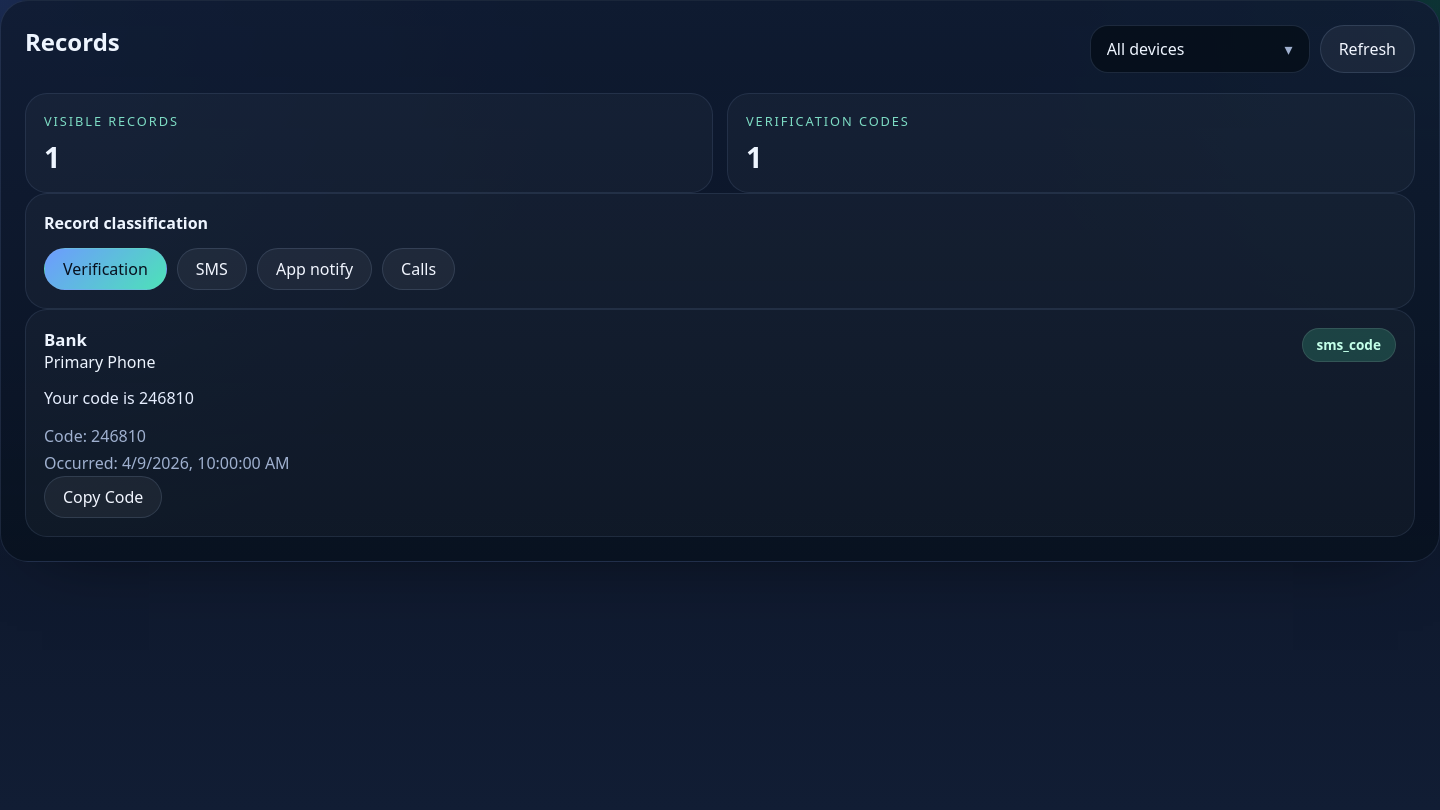
Scenario: RecordsPage › copies extracted codes and gives inline feedback
The width and height of the screenshot is (1440, 810).
Click the button "Copy Code": (103, 497) 44,476 -> 162,518
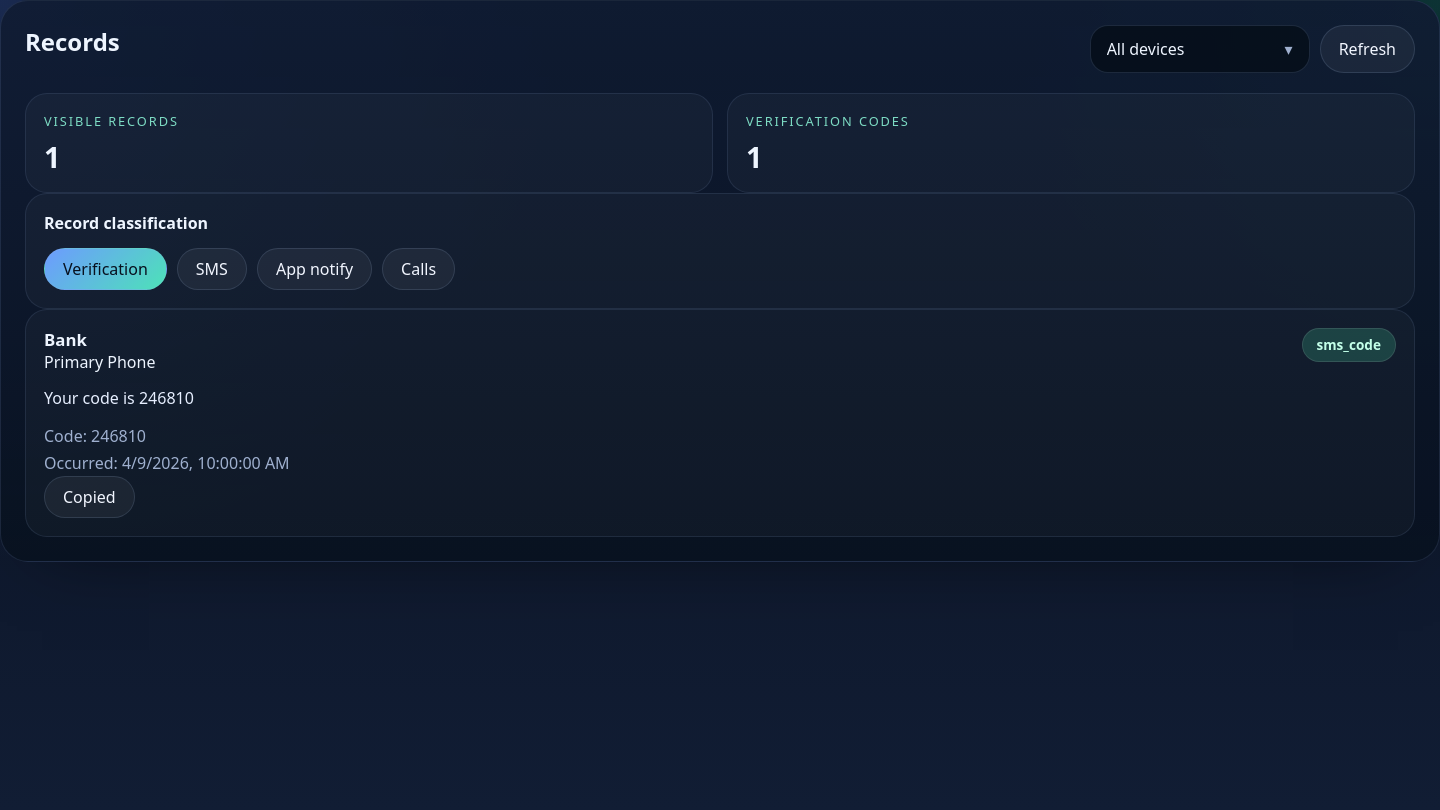
Expected: the button "Copied" is shown, 44,476 -> 135,518
